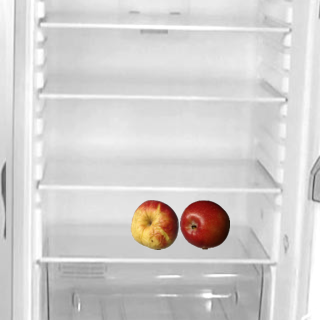Apple Braeburn: (179, 199, 229, 249)
Apple Red Yellow 1: (129, 199, 179, 249)
